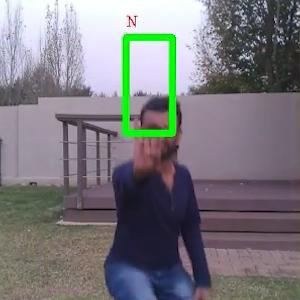takeoff-hand: (129, 112, 175, 176)
